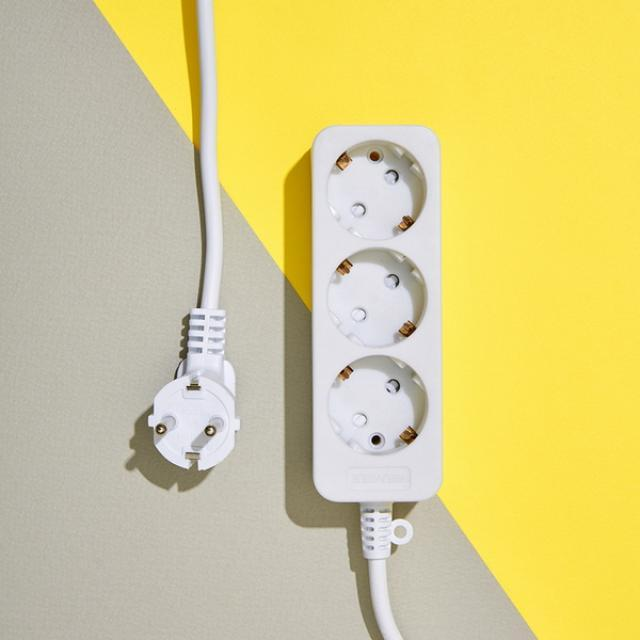typeb: (288, 92, 480, 558)
